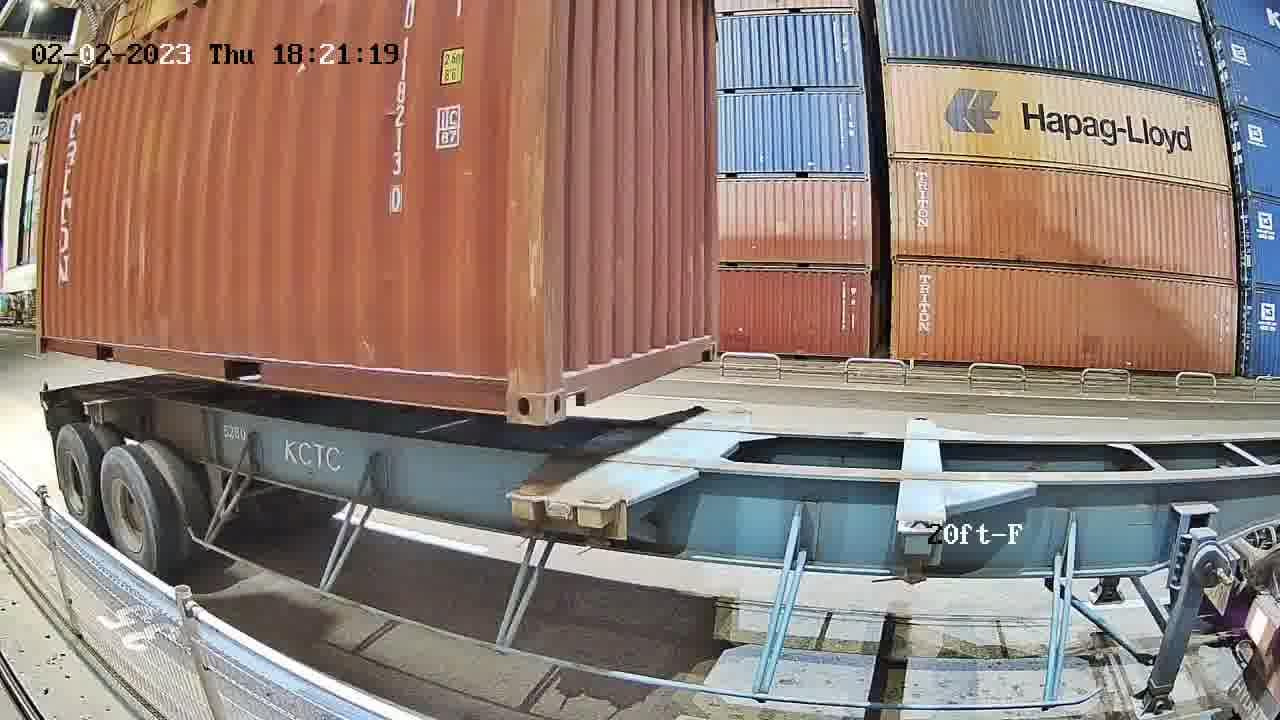Chassis: (510, 406, 711, 500), (577, 410, 751, 512)
Cone: (511, 484, 551, 544), (578, 493, 620, 550)
Hole_L: (544, 337, 601, 425)
Hole_R: (468, 349, 545, 425), (693, 322, 722, 364)
Tire: (101, 450, 157, 574), (56, 427, 98, 533)
